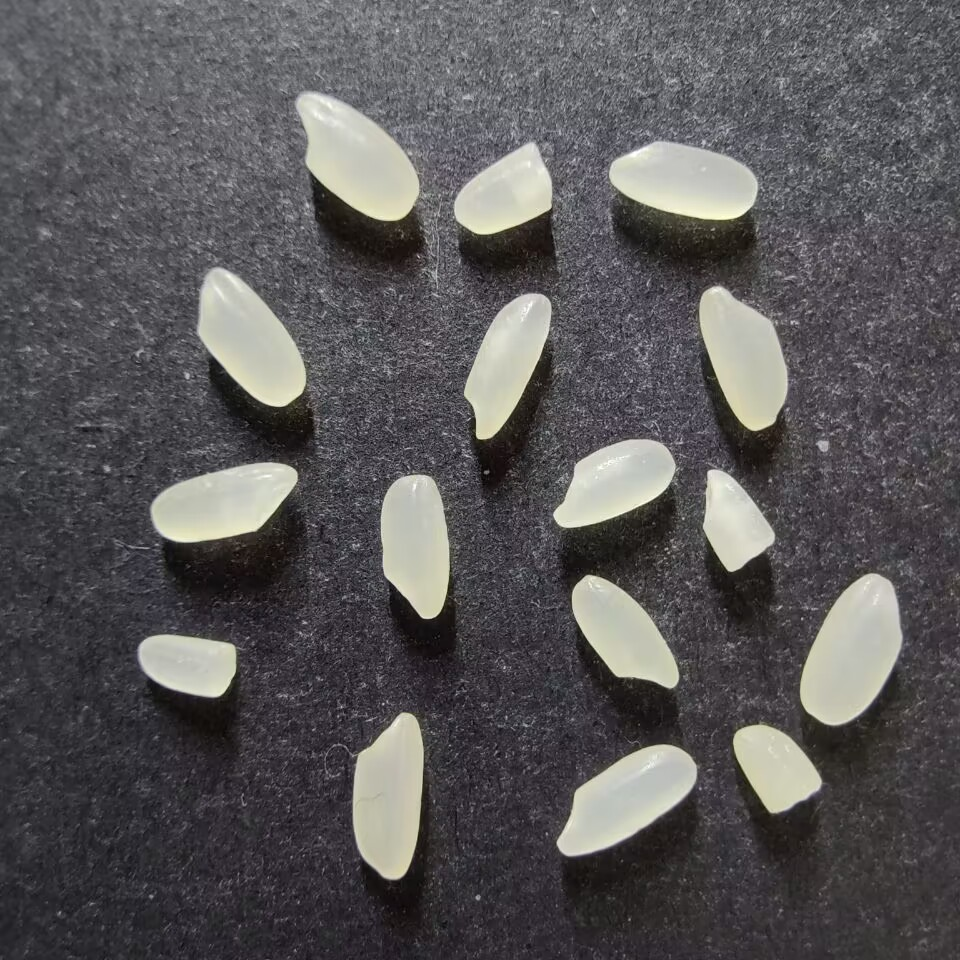broken: (453, 142, 553, 235), (732, 724, 822, 814), (700, 468, 775, 573), (137, 634, 236, 698)
rice: (295, 91, 419, 222), (798, 572, 903, 726), (556, 744, 697, 857), (196, 266, 306, 407), (462, 293, 552, 440), (698, 285, 787, 431), (570, 574, 679, 690), (350, 712, 424, 880), (150, 461, 297, 543), (608, 140, 758, 220), (552, 438, 675, 528), (379, 474, 450, 619)
